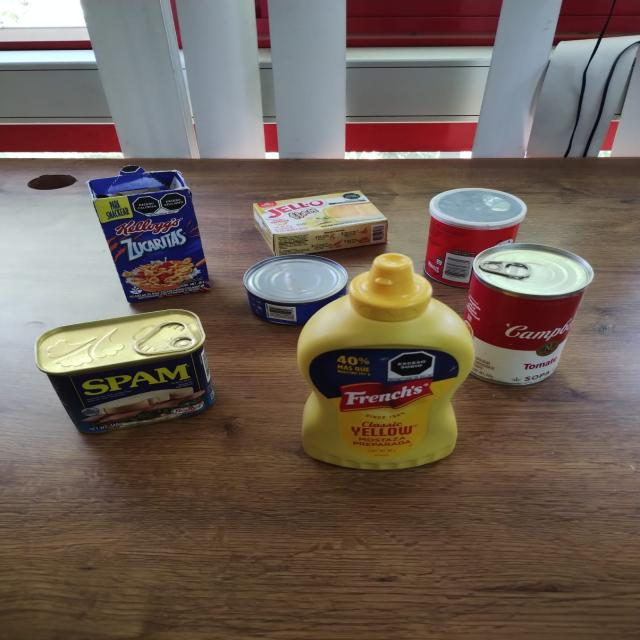can of cream: (465, 244, 595, 384)
can of tuna: (242, 254, 349, 323)
cereal: (84, 165, 210, 301)
chips: (425, 188, 528, 288)
jelly: (253, 190, 389, 258)
mustard: (295, 253, 473, 463)
spam: (32, 304, 218, 438)
